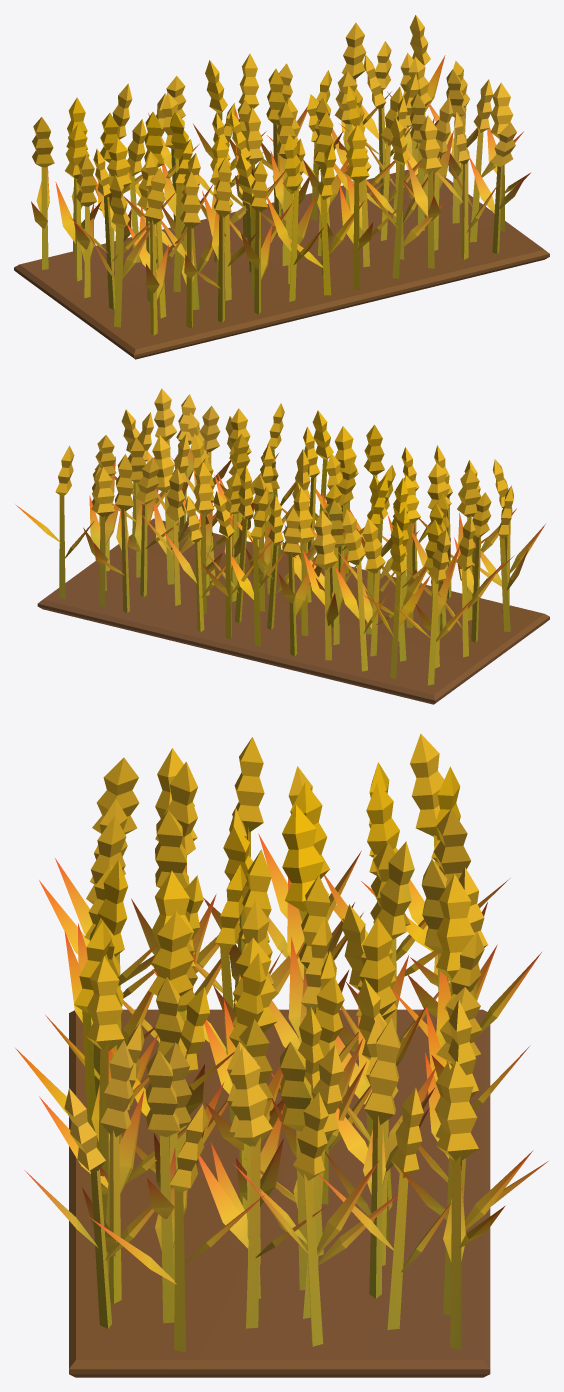
File: Farm_Wheat_Straight_3m.glb
The picture shows the model from 3 angles, top to bottom: view 1: azimuth 30°, elevation 25°; view 2: azimuth 150°, elevation 25°; view 3: azimuth 270°, elevation 25°; orthographic projection. The views are drawn at different scales.
Parts seen in each view (by area): view 1: Farm_Wheat_Straight_3m; view 2: Farm_Wheat_Straight_3m; view 3: Farm_Wheat_Straight_3m.
Boxes of the visible parts, left/top/right/bottom form: Farm_Wheat_Straight_3m: left=14, top=15, right=549, bottom=359; Farm_Wheat_Straight_3m: left=15, top=388, right=549, bottom=704; Farm_Wheat_Straight_3m: left=15, top=733, right=548, bottom=1377.
Bounding box in the file's own units: 3.25 × 1.24 × 1.91.
